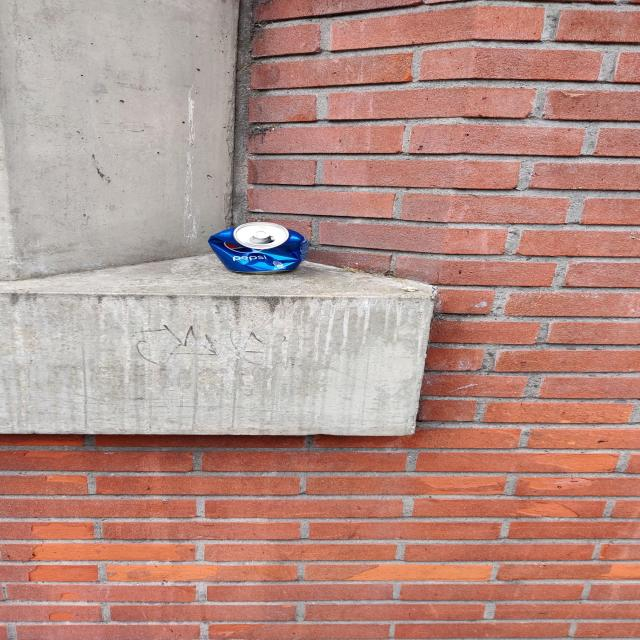litter: (211, 223, 307, 274)
